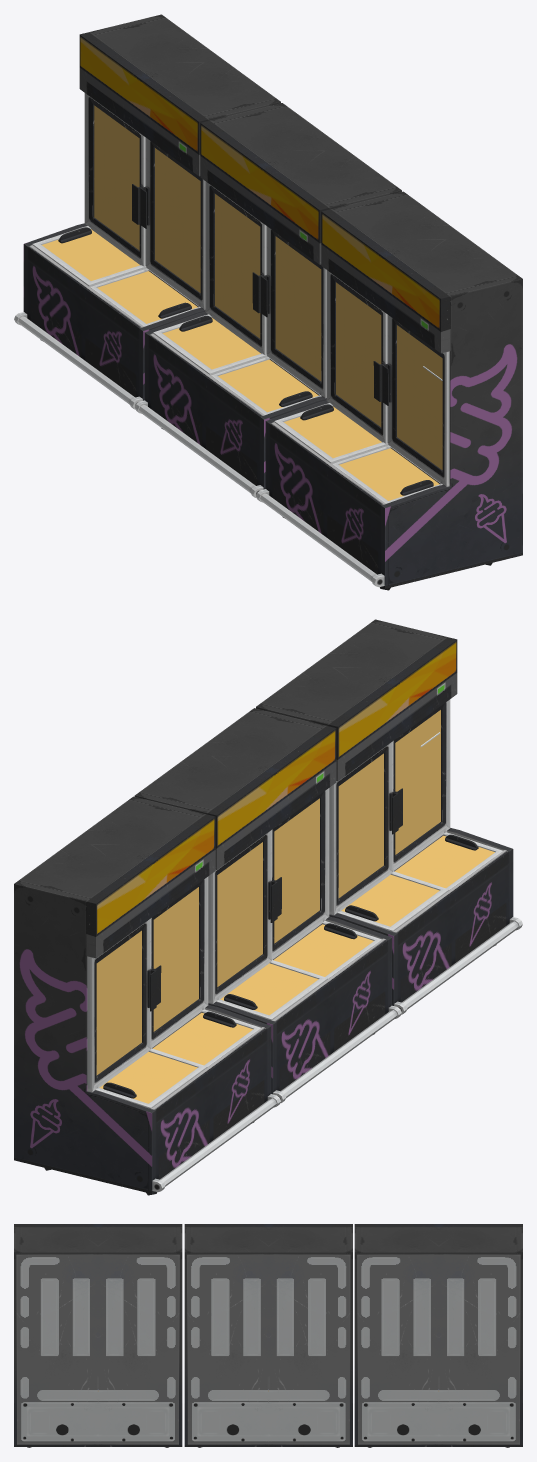
Rendered from Market_06.obj.
3 views of the same model, one above another, from view 1: azimuth 30°, elevation 25°; view 2: azimuth 150°, elevation 25°; view 3: azimuth 270°, elevation 25° (orthographic). The views are drawn at different scales.
Bounding box in the file's own units: 1.5 × 2.79 × 6.35.
Materials: 119 (119 with a texture image).
